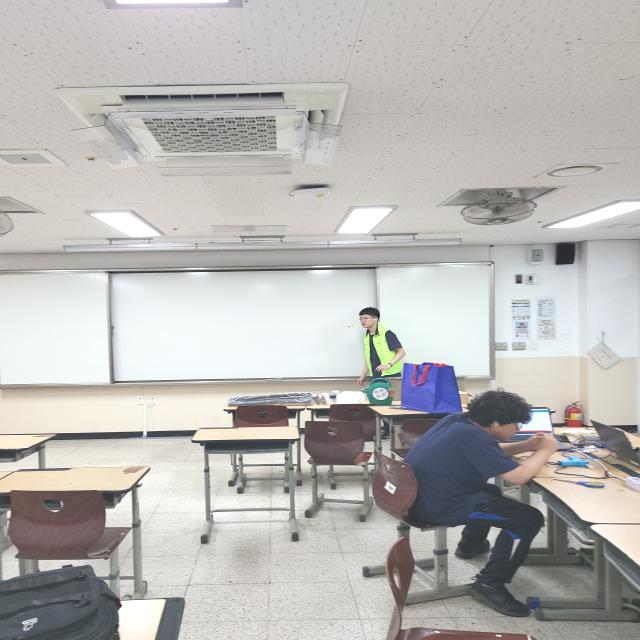weston_spy: (359, 324, 410, 384)
